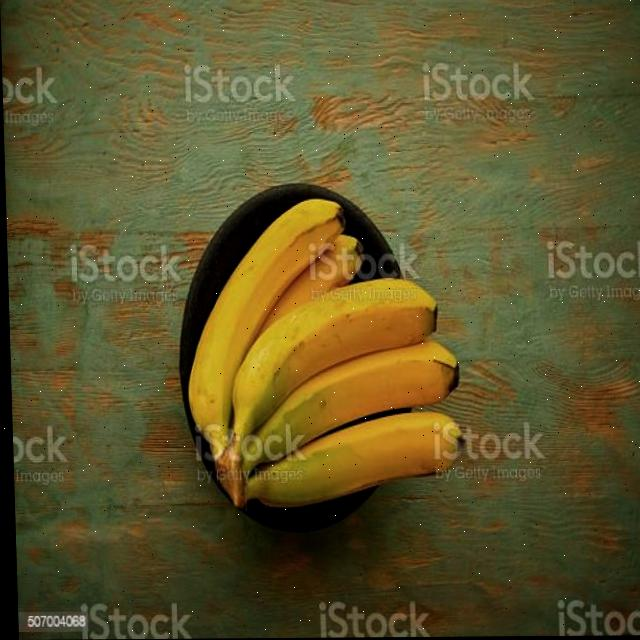banana: (177, 193, 476, 516)
